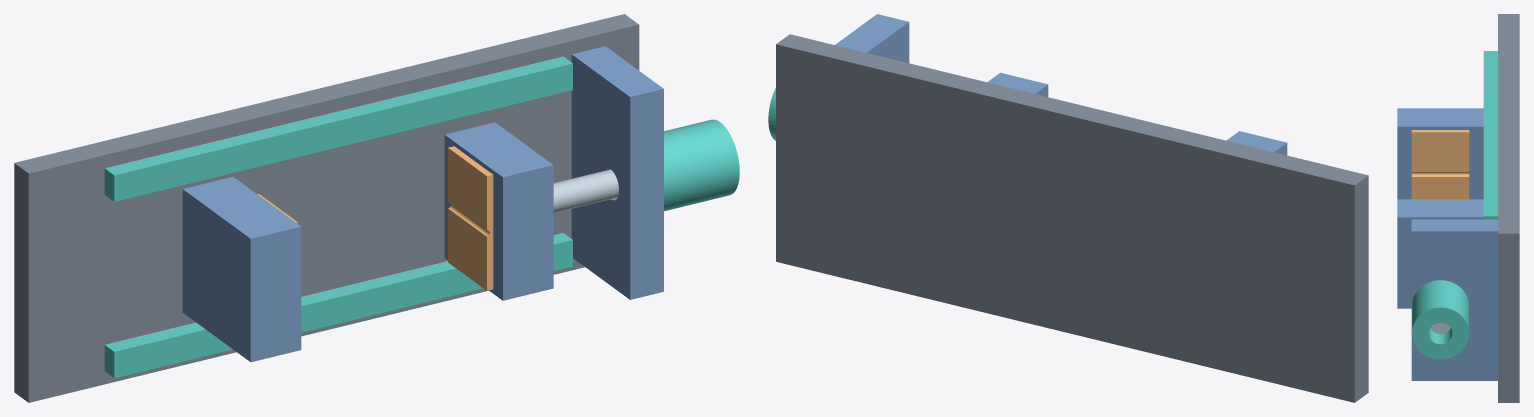
File: assembly.glb
3 views of the same model, side by side, from view 1: azimuth 30°, elevation 25°; view 2: azimuth 150°, elevation 25°; view 3: azimuth 270°, elevation 25° (orthographic). The views are drawn at different scales.
Parts seen in each view (by area): view 1: base, actuator_support, fixed_jaw, rail_right, moving_jaw, rail_left, actuator_body, moving_pad, rod; view 2: base, actuator_support, fixed_jaw, moving_jaw; view 3: actuator_support, base, fixed_pad, fixed_jaw, actuator_body, moving_jaw, rail_right, rod.
Part boxes in pixels (bbox=[...]): base: bbox=[14, 14, 639, 402]; actuator_support: bbox=[571, 46, 663, 299]; fixed_jaw: bbox=[182, 177, 301, 362]; rail_right: bbox=[104, 56, 572, 201]; moving_jaw: bbox=[444, 122, 553, 300]; rail_left: bbox=[104, 233, 572, 378]; actuator_body: bbox=[664, 119, 739, 211]; moving_pad: bbox=[448, 146, 493, 290]; rod: bbox=[553, 169, 618, 212]; base: bbox=[776, 34, 1368, 402]; actuator_support: bbox=[835, 14, 909, 62]; fixed_jaw: bbox=[1226, 131, 1287, 155]; moving_jaw: bbox=[987, 72, 1048, 96]; actuator_support: bbox=[1411, 219, 1497, 380]; base: bbox=[1498, 14, 1519, 402]; fixed_pad: bbox=[1411, 130, 1469, 199]; fixed_jaw: bbox=[1397, 108, 1483, 199]; actuator_body: bbox=[1411, 280, 1469, 359]; moving_jaw: bbox=[1397, 199, 1483, 308]; rail_right: bbox=[1483, 51, 1497, 219]; rod: bbox=[1430, 323, 1450, 334].
Bounding box in the file's own units: 0.1548 × 0.052 × 0.034.
